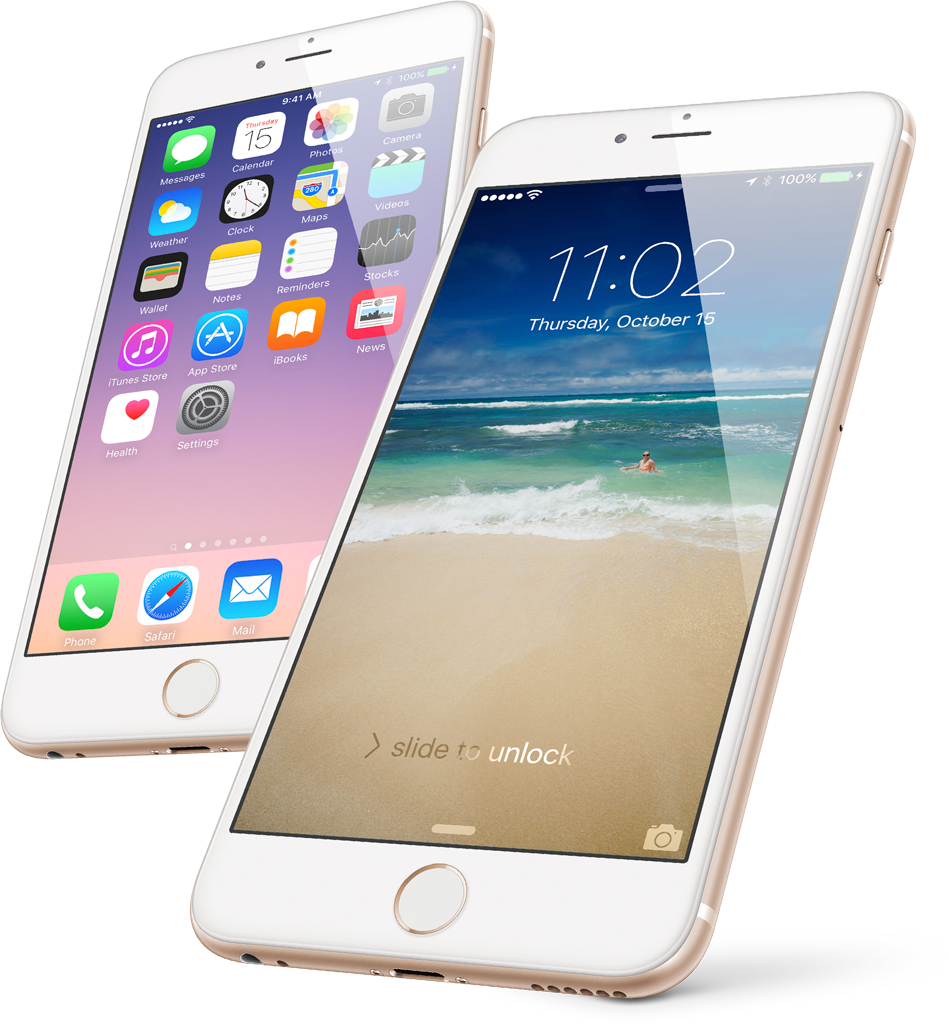phone: (185, 94, 924, 1001)
